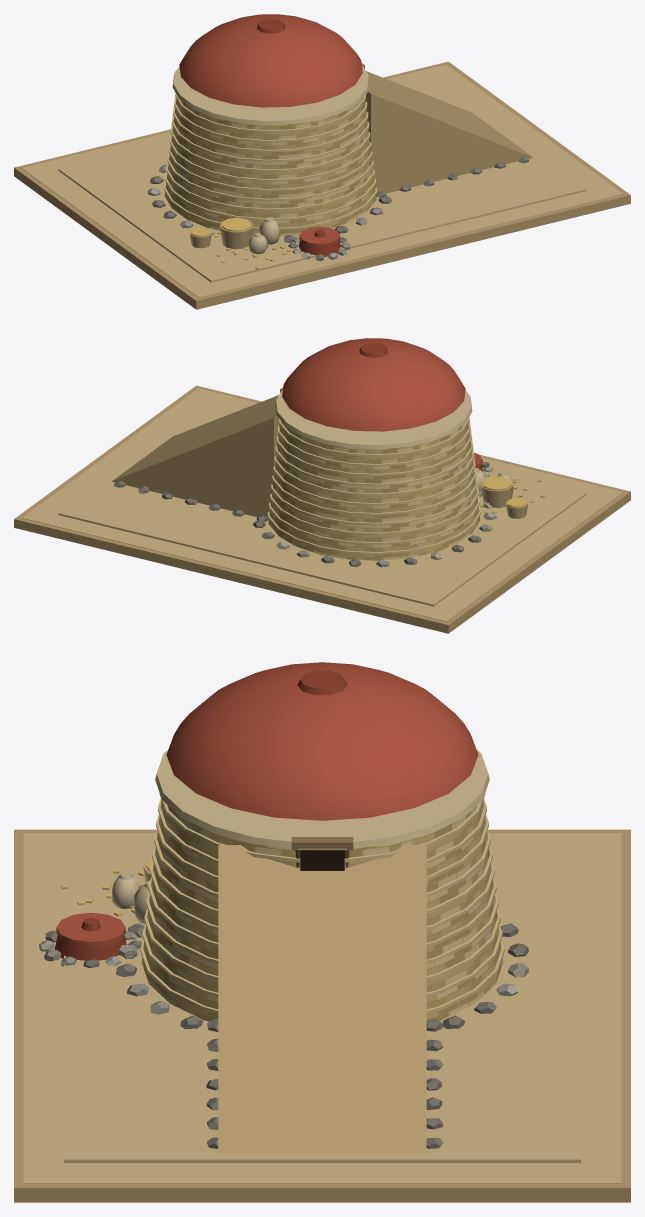
The model's file is rad-4-built.glb.
3 views of the same model, one above another, from view 1: azimuth 30°, elevation 25°; view 2: azimuth 150°, elevation 25°; view 3: azimuth 270°, elevation 25° (orthographic). The views are drawn at different scales.
Size of the model in its own units: 22 by 8.63 by 16.
Materials: 16 (2 with a texture image).
